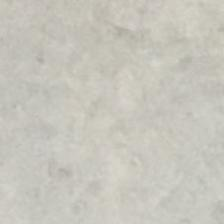Non_Crack: (29, 36, 201, 194)
